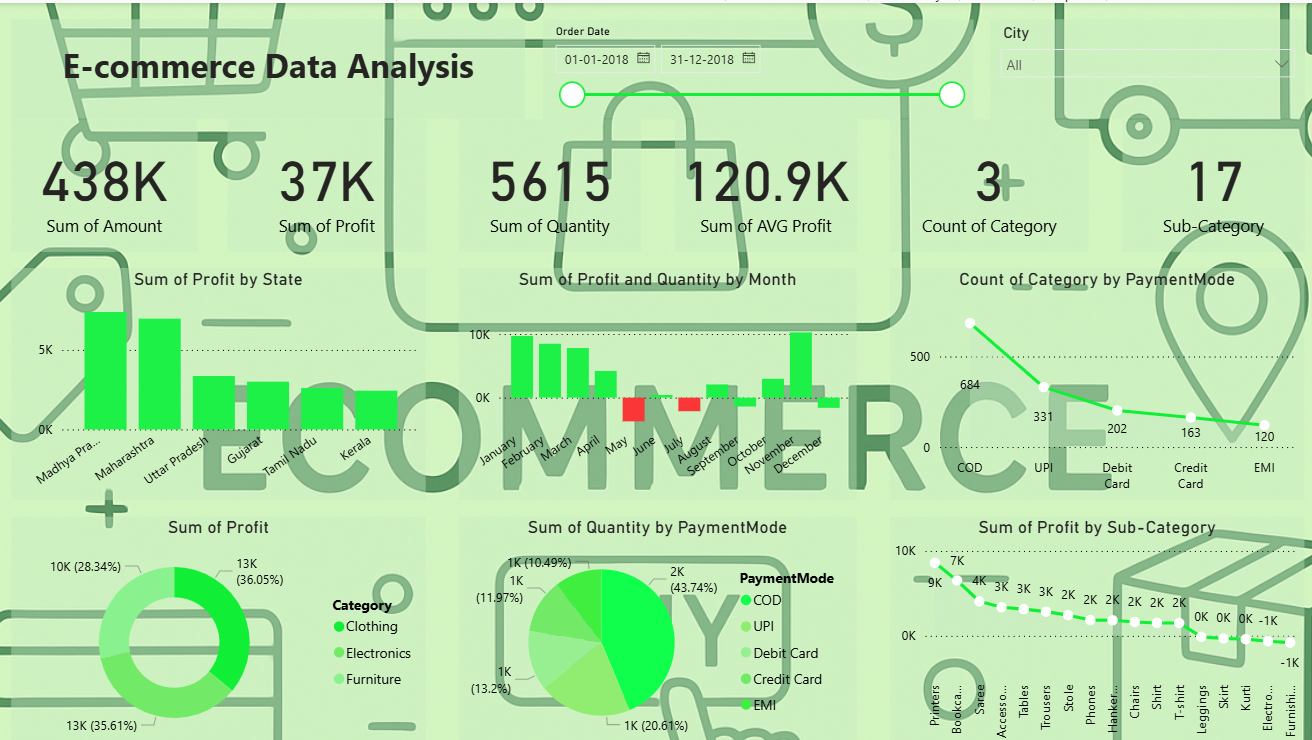

The page's visual inventory and layout, read from the dashboard file:
{"tool":"powerbi","page":{"name":"Page 1","canvas":[1280,720],"ordinal":0},"visuals":[{"type":"card","fields":{"Values":["Sum(Details (2).Amount)"]},"box":[16,112,180,128],"z":0},{"type":"card","fields":{"Values":["Sum(Details (2).Profit)"]},"box":[224,112,192,128],"z":1000},{"type":"card","fields":{"Values":["Sum(Details (2).Quantity)"]},"box":[448,112,176,128],"z":2000},{"type":"slicer","fields":{"Values":["Orders (2).Order Date"]},"box":[528,16,416,96],"z":3000},{"type":"card","fields":{"Values":["Count(Details (2).Category)"]},"box":[864,112,192,128],"z":4000},{"type":"columnChart","fields":{"Y":["Sum(Details (2).Profit)"],"Category":["Orders (2).State"]},"box":[16,256,400,224],"z":5000},{"type":"pieChart","fields":{"Category":["Details (2).PaymentMode"],"Y":["Sum(Details (2).Quantity)"]},"box":[448,496,384,224],"z":6000},{"type":"textbox","box":[16,16,496,96],"z":7000},{"type":"donutChart","title":"Sum of Profit","fields":{"Category":["Details (2).Category"],"Y":["Sum(Details (2).Profit)"]},"box":[16,496,400,224],"z":8000},{"type":"slicer","fields":{"Values":["Orders (2).City"]},"box":[960,16,304,96],"z":9000},{"type":"card","fields":{"Values":["Sum(Details (2).AVG Profit)"]},"box":[656,112,176,128],"z":10000},{"type":"columnChart","title":"Sum of Profit and Quantity by Month","fields":{"Category":["Orders (2).Order Date.Variation.Date Hierarchy.Month"],"Y":["Sum(Details (2).Profit)"]},"box":[448,256,384,224],"z":11000},{"type":"lineChart","fields":{"Category":["Details (2).Sub-Category"],"Y":["Sum(Details (2).Profit)"]},"box":[864,496,400,224],"z":12000},{"type":"stackedAreaChart","fields":{"Category":["Details (2).PaymentMode"],"Y":["CountNonNull(Details (2).Category)"]},"box":[864,256,400,224],"z":13000},{"type":"card","fields":{"Values":["Count(Details (2).Sub-Category)"]},"box":[1088,112,176,128],"z":14000}]}

Visuals, with their boxes in screenshot pixels (x1, y1, x2, y2), scaled from the page's 1280x720 canvas onto the 1312x740 screenshot:
card - Sum(Details (2).Amount): detection(16, 115, 201, 247)
card - Sum(Details (2).Profit): detection(230, 115, 426, 247)
card - Sum(Details (2).Quantity): detection(459, 115, 640, 247)
slicer - Orders (2).Order Date: detection(541, 16, 968, 115)
card - Count(Details (2).Category): detection(886, 115, 1082, 247)
columnChart - Sum(Details (2).Profit) x Orders (2).State: detection(16, 263, 426, 493)
pieChart - Details (2).PaymentMode x Sum(Details (2).Quantity): detection(459, 510, 853, 739)
textbox: detection(16, 16, 525, 115)
"Sum of Profit" donutChart: detection(16, 510, 426, 739)
slicer - Orders (2).City: detection(984, 16, 1296, 115)
card - Sum(Details (2).AVG Profit): detection(672, 115, 853, 247)
"Sum of Profit and Quantity by Month" columnChart: detection(459, 263, 853, 493)
lineChart - Details (2).Sub-Category x Sum(Details (2).Profit): detection(886, 510, 1296, 739)
stackedAreaChart - Details (2).PaymentMode x CountNonNull(Details (2).Category): detection(886, 263, 1296, 493)
card - Count(Details (2).Sub-Category): detection(1115, 115, 1296, 247)
